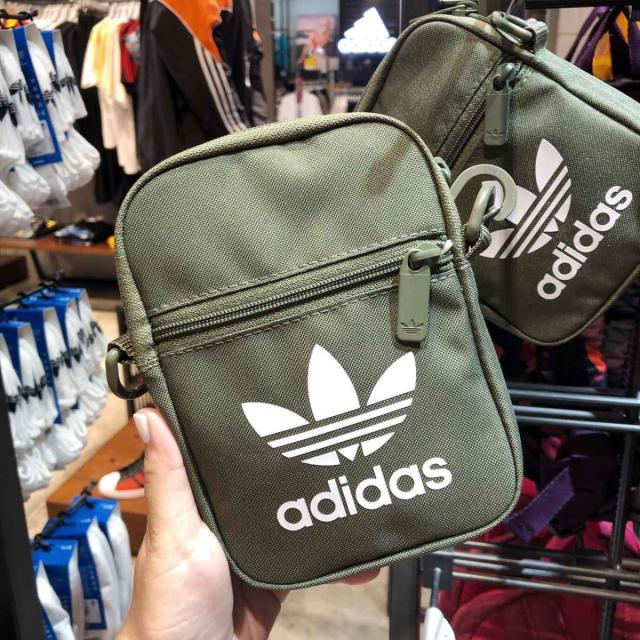Handbag: (107, 110, 534, 595)
